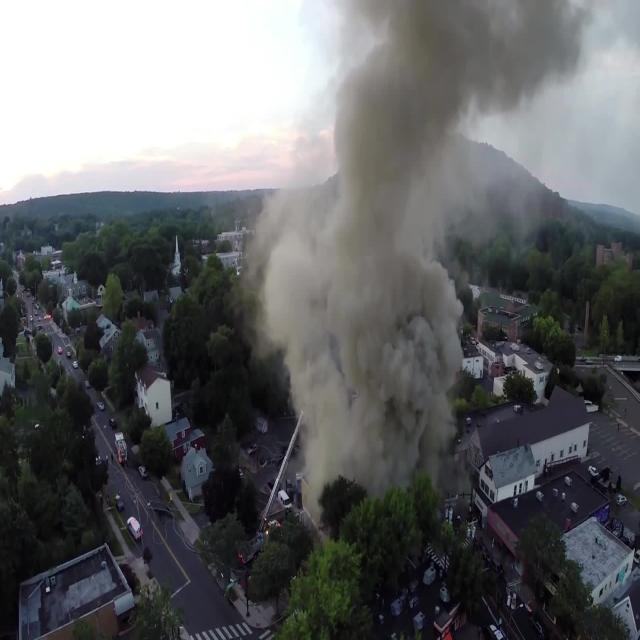Smoke: (310, 182, 451, 490)
